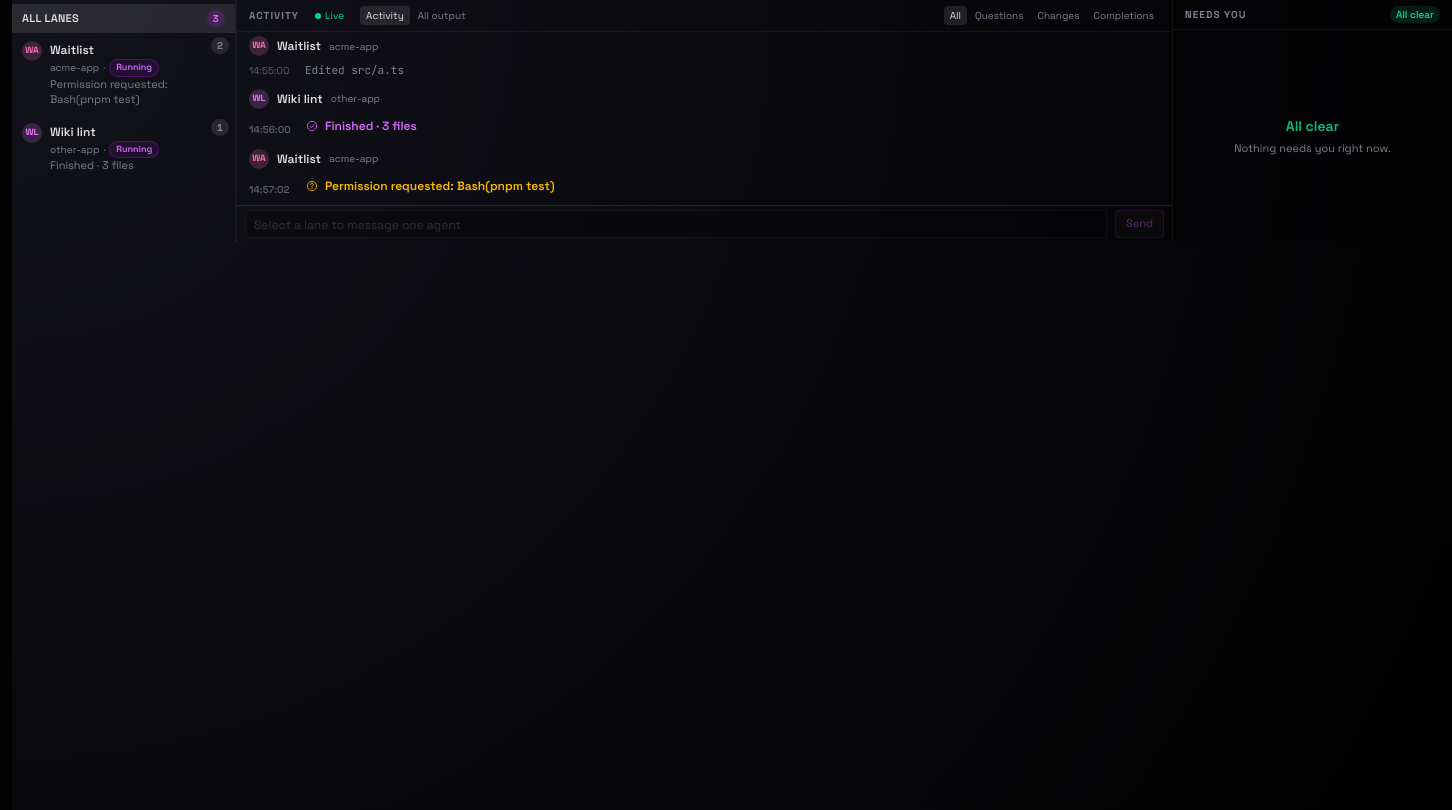
ActivityFeed kind filters › filters to Questions, Changes, and Completions
What coordinates should you click on to do the following:
click the button "Questions"
I would click on:
 (999, 16)
Its box is [969,6,1030,25].
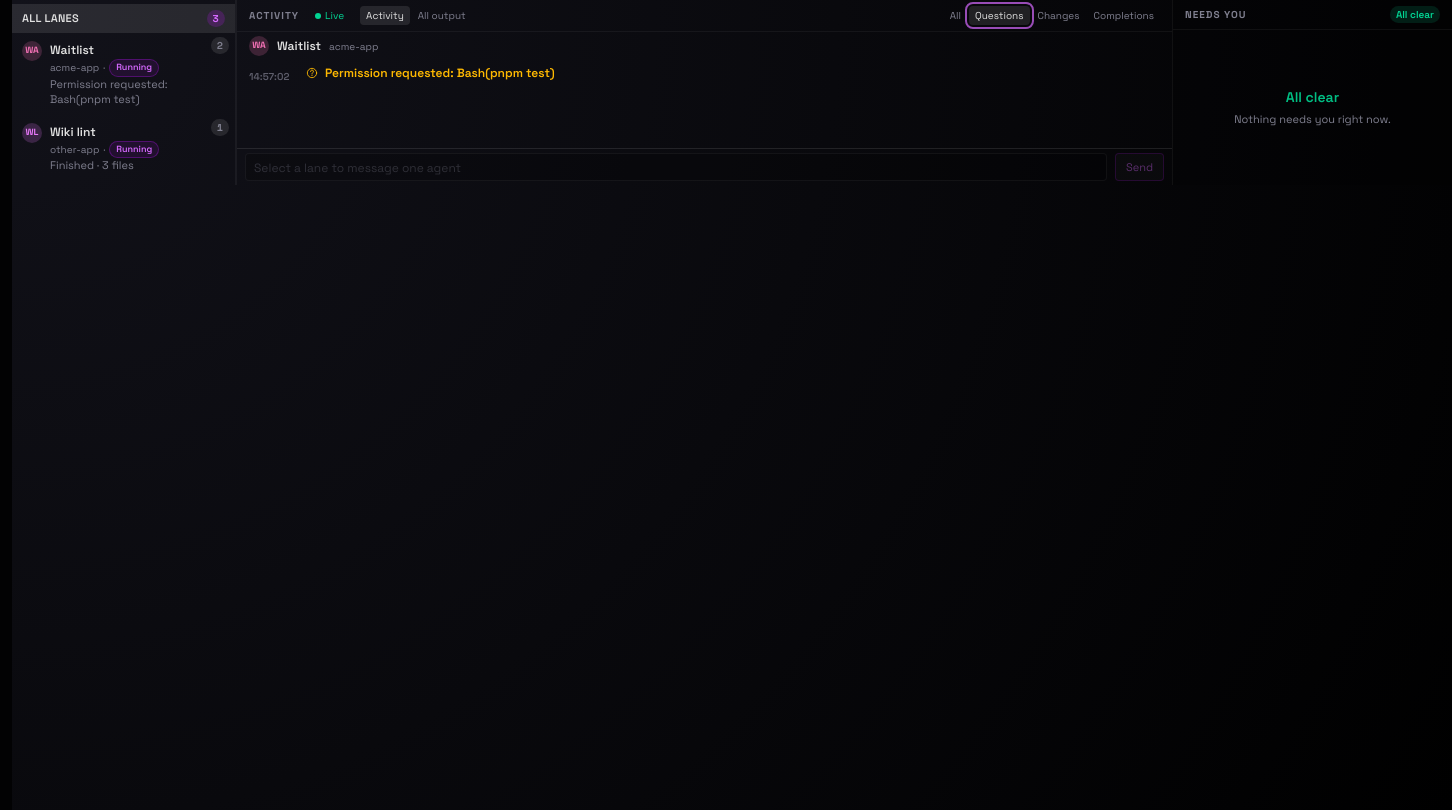
Expected: the element with test id "feed-row" shows "Permission requested", [325,65,554,81]
Expected: the number of elements with test id "feed-row" is 1, [249,64,554,83]
What coordinates should you click on to do the following:
click the button "Changes"
I would click on:
 (1058, 16)
Its box is [1032,6,1086,25].
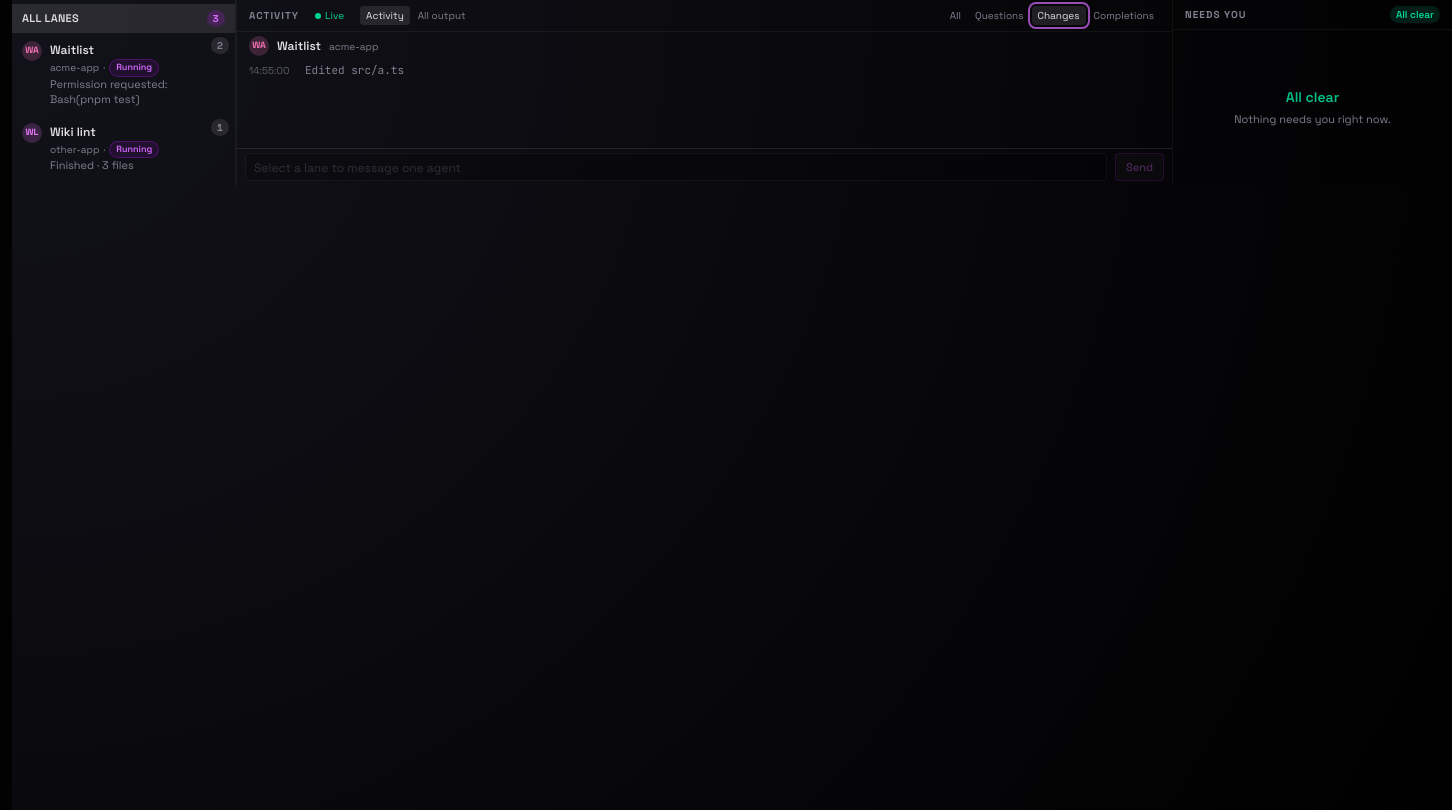
Expected: the number of elements with test id "feed-row" is 1, [249,63,404,77]
Expected: the element with test id "feed-row" shows "Edited src/a.ts", [305,63,404,77]
What coordinates should you click on to do the following:
click the button "Completions"
I would click on:
 (1124, 16)
Its box is [1088,6,1160,25].
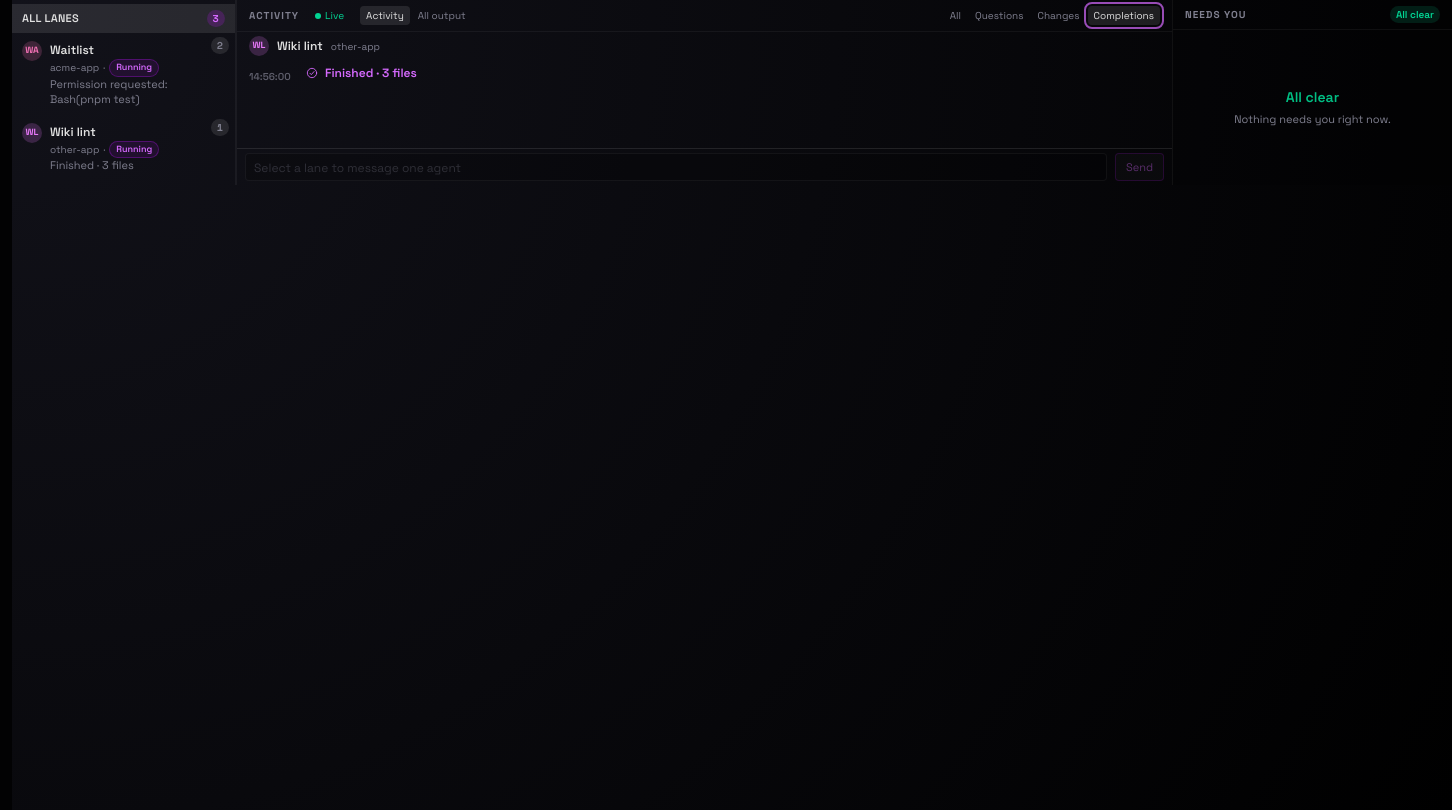
Expected: the number of elements with test id "feed-row" is 1, [249,64,417,83]
Expected: the element with test id "feed-row" shows "Finished", [325,65,417,81]
What coordinates should you click on to do the following:
click the button "All"
I would click on:
 (955, 16)
Its box is [944,6,967,25].
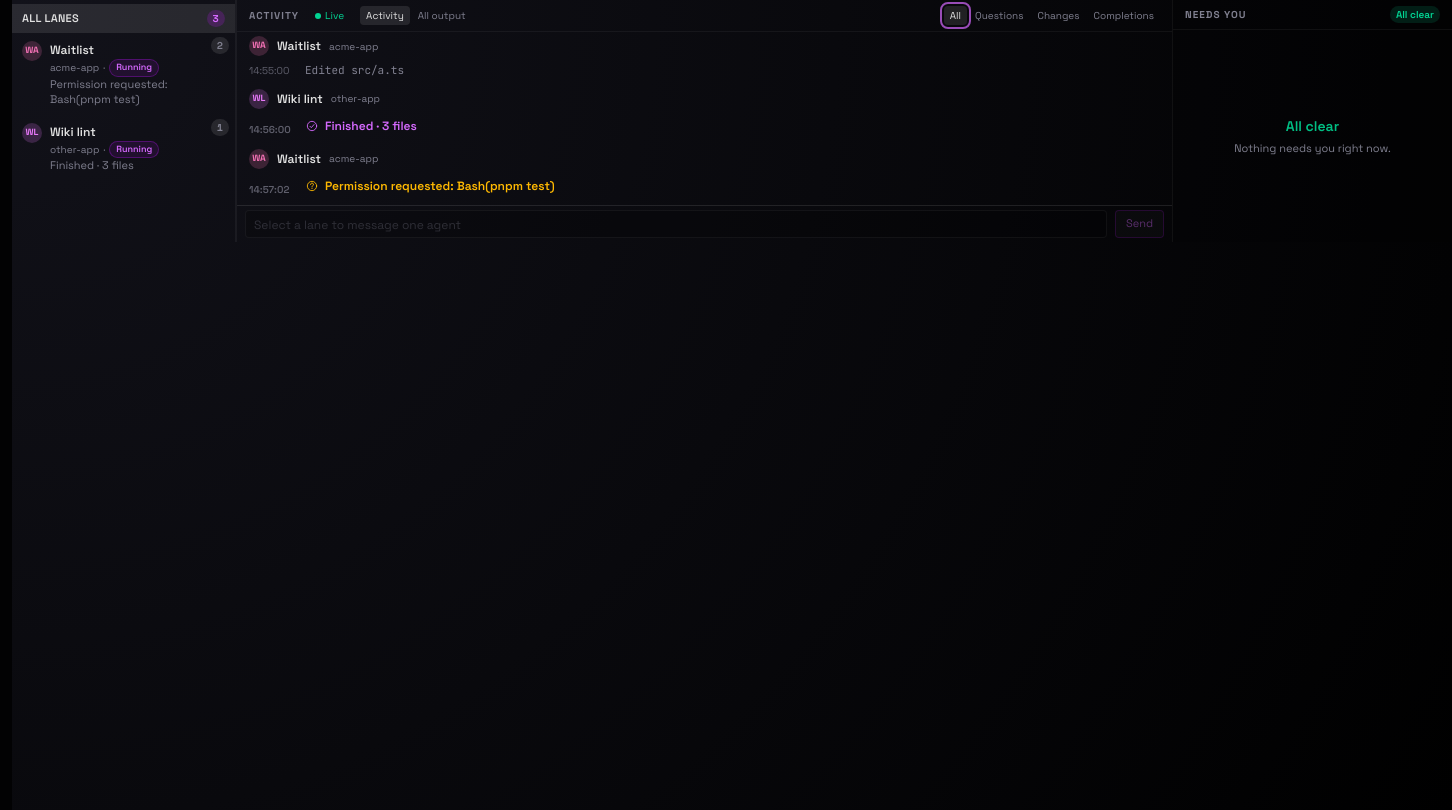
Expected: the number of elements with test id "feed-row" is 3, [249,63,404,77]; [249,116,417,136]; [249,176,554,196]
